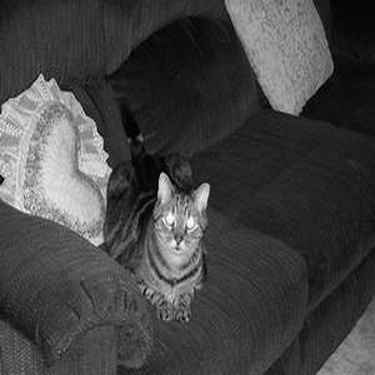cat: (102, 92, 210, 324)
